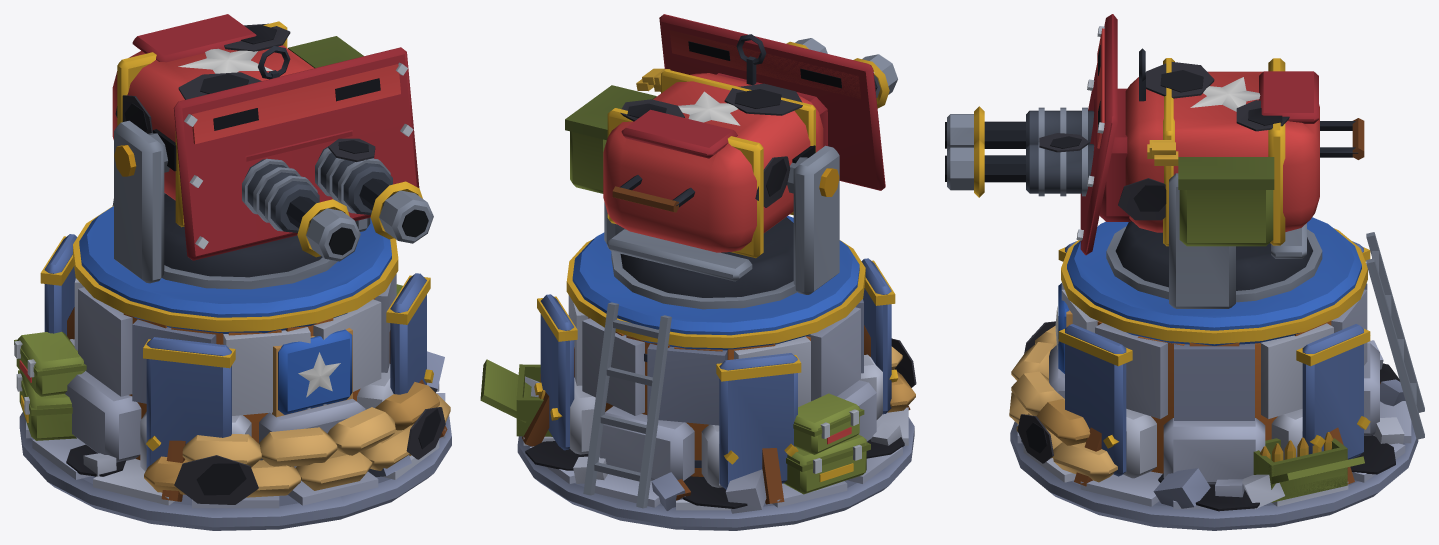
The picture shows the model from 3 angles, left to right: view 1: azimuth 30°, elevation 25°; view 2: azimuth 150°, elevation 25°; view 3: azimuth 270°, elevation 25°; orthographic projection. The views are drawn at different scales.
Parts seen in each view (by area): view 1: lv4_stone, base, lv4_shield, pitch, lv7_armor, head, dmg2_base, lv7_trim, dmg1_base, lvmax3_wood, dmg2_head, dmg1_head; view 2: lv4_stone, pitch, base, lv7_armor, head, lv4_shield, lv7_ladder, dmg2_base, lv7_trim, lvmax3_wood, dmg1_base, dmg1_head (+1 smaller); view 3: pitch, lv4_stone, base, lv7_armor, head, lv4_shield, dmg2_base, dmg2_head, lv7_trim, dmg1_base, lv7_ladder, lvmax3_wood (+1 smaller).
Boxes of the visible parts, x1,y1,x2,y2 form: lv4_stone: (65,206,396,471); base: (14,284,451,530); lv4_shield: (173,47,419,260); pitch: (112,14,433,261); lv7_armor: (40,205,433,468); head: (114,120,370,289); dmg2_base: (174,351,444,504); lv7_trim: (117,21,422,257); dmg1_base: (66,407,445,476); lvmax3_wood: (67,298,447,501); dmg2_head: (178,72,375,161); dmg1_head: (115,23,290,133); lv4_stone: (568,216,882,487); pitch: (565,34,897,252); base: (480,346,915,530); lv7_armor: (534,239,898,489); head: (604,145,839,309); lv4_shield: (659,14,885,190); lv7_ladder: (583,302,671,508); dmg2_base: (525,338,916,513); lv7_trim: (607,41,889,258); lvmax3_wood: (522,317,910,504); dmg1_base: (525,422,904,483); dmg1_head: (620,99,790,207); pitch: (945,48,1364,246); lv4_stone: (1049,217,1379,484); base: (1009,325,1418,530); lv7_armor: (1058,228,1370,476); head: (1106,173,1322,308); lv4_shield: (1076,14,1117,255); dmg2_base: (1021,321,1405,511); dmg2_head: (1039,62,1214,220); lv7_trim: (974,58,1285,246); dmg1_base: (1017,414,1404,497); lv7_ladder: (1366,232,1424,439); lvmax3_wood: (1066,310,1354,486).
Bounding box in the file's own units: 3.63 × 3.67 × 4.
